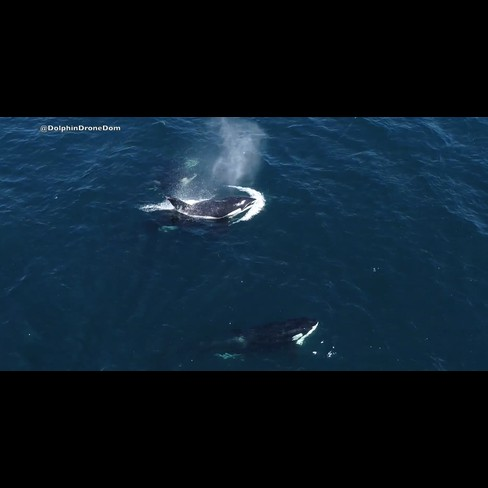orca: (133, 189, 272, 231), (217, 313, 333, 355)
